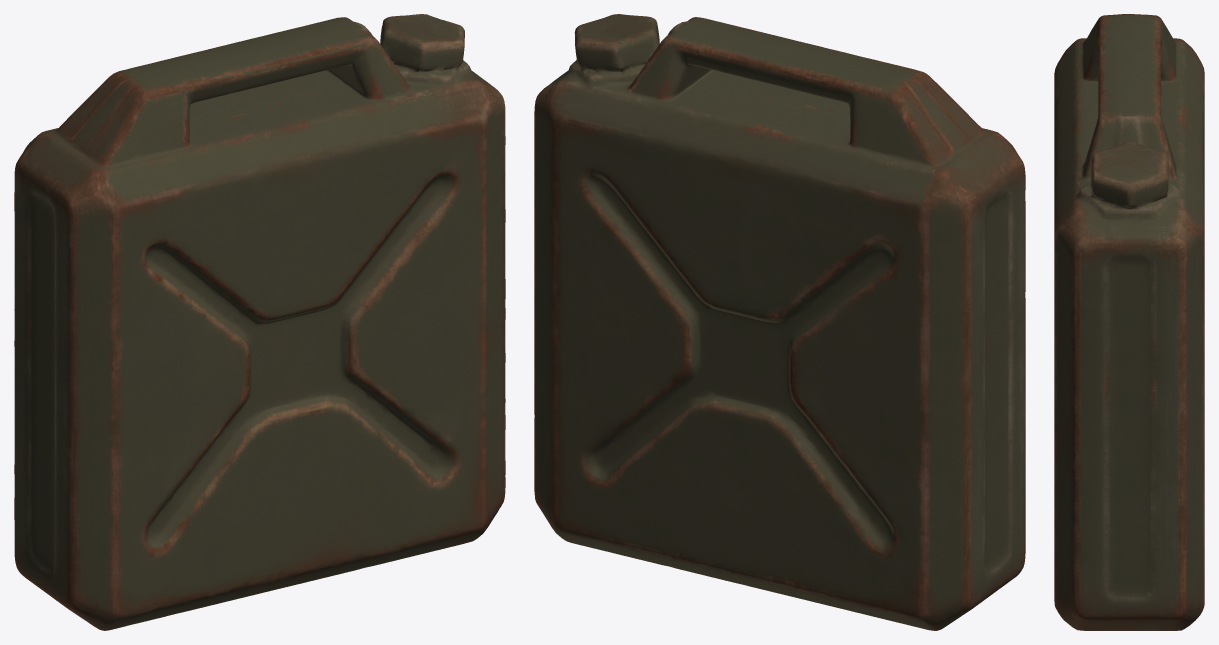
The model's file is gas_can.glb.
3 views of the same model, side by side, from view 1: azimuth 30°, elevation 25°; view 2: azimuth 150°, elevation 25°; view 3: azimuth 270°, elevation 25° (orthographic). The views are drawn at different scales.
Bounding box in the file's own units: 0.8884 × 1.01 × 0.2876.
1 material, 1 textured.
